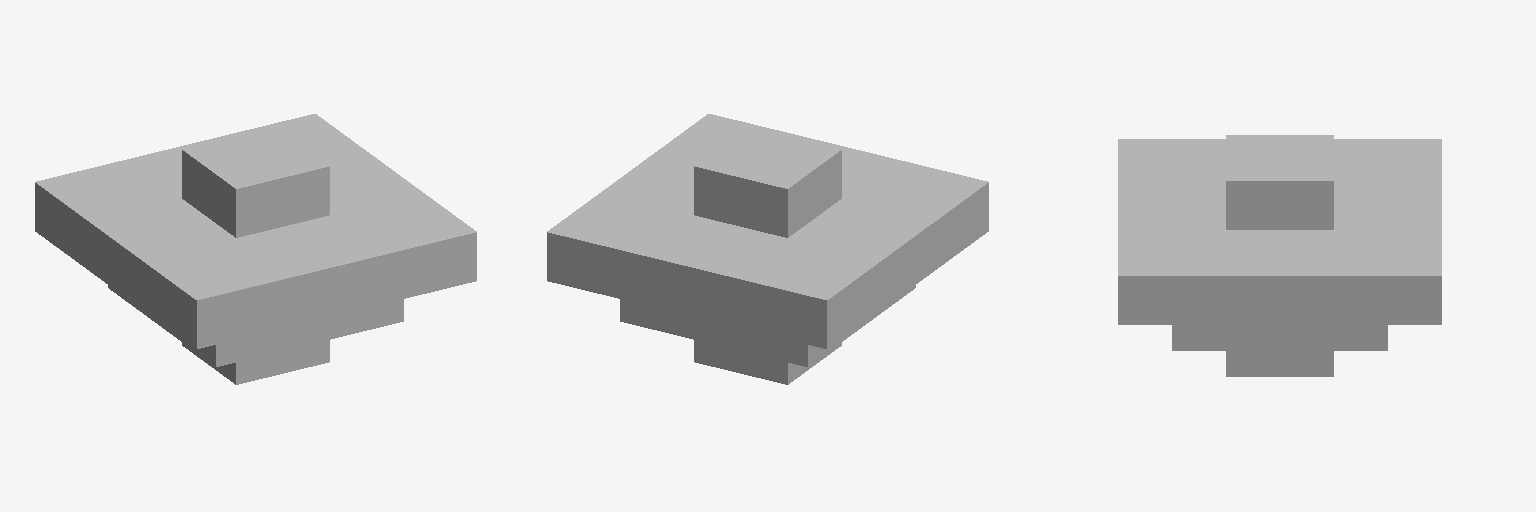
Rendered from lamp.obj.
The picture shows the model from 3 angles: view 1: azimuth 30°, elevation 25°; view 2: azimuth 150°, elevation 25°; view 3: azimuth 270°, elevation 25°; orthographic projection.
Size of the model in its own units: 6 by 4 by 6.